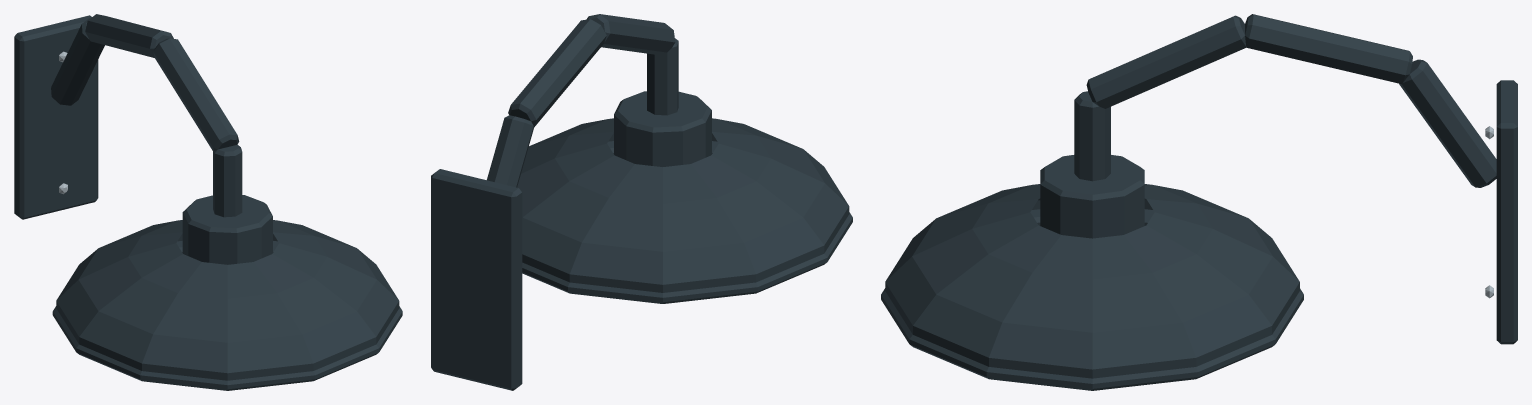
File: b18_barn_gooseneck_wall_light.glb
3 views of the same model, side by side, from view 1: azimuth 30°, elevation 25°; view 2: azimuth 150°, elevation 25°; view 3: azimuth 270°, elevation 25° (orthographic). The views are drawn at different scales.
Visible parts, largest first — view 1: b18_barn_gooseneck_wall_light; view 2: b18_barn_gooseneck_wall_light; view 3: b18_barn_gooseneck_wall_light.
Boxes of the visible parts, x1,y1,x2,y2 form: b18_barn_gooseneck_wall_light: [14, 14, 402, 390]; b18_barn_gooseneck_wall_light: [431, 14, 852, 390]; b18_barn_gooseneck_wall_light: [881, 14, 1517, 390].
Bounding box in the file's own units: 0.6936 × 0.5813 × 1.04.
